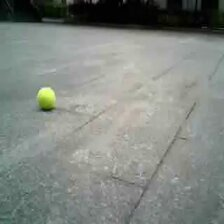tennis: (37, 87, 55, 108)
